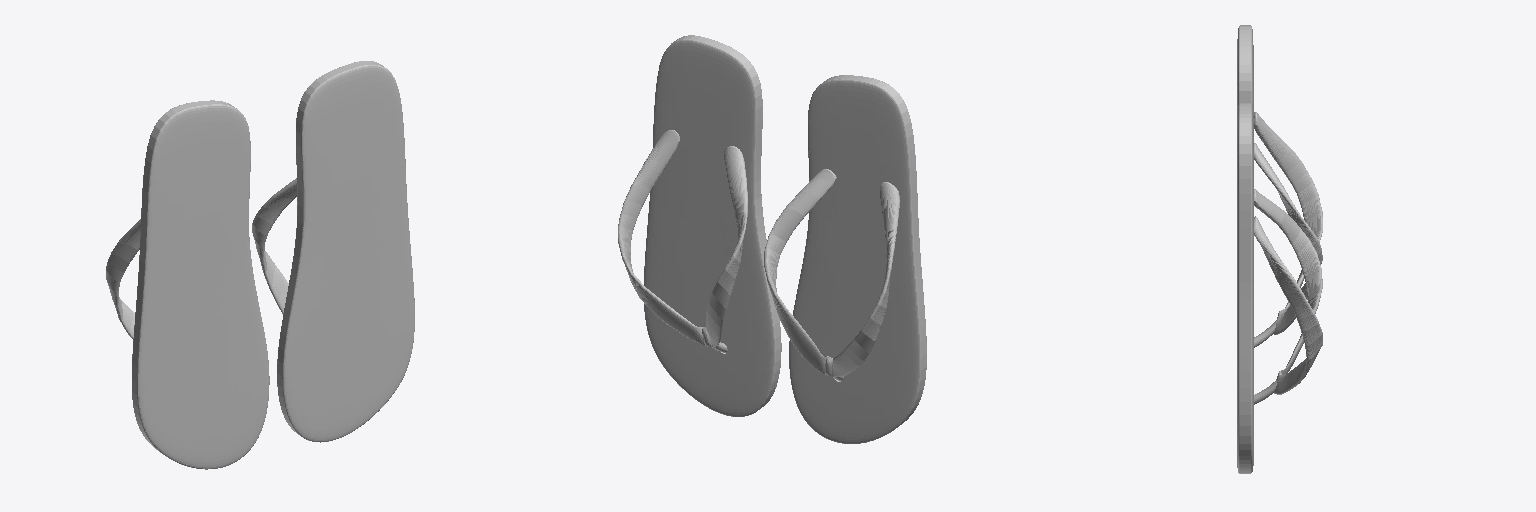
File: flip-flop.obj
The picture shows the model from 3 angles: view 1: azimuth 30°, elevation 25°; view 2: azimuth 150°, elevation 25°; view 3: azimuth 270°, elevation 25°; orthographic projection.
Parts seen in each view (by area): view 1: flipflops; view 2: flipflops; view 3: flipflops.
Boxes of the visible parts, box(x1,y1,x2,y2) form: flipflops: box(106, 61, 414, 469); flipflops: box(618, 35, 926, 443); flipflops: box(1237, 25, 1322, 473).
Bounding box in the file's own units: 1.42 × 1.8 × 0.3836.